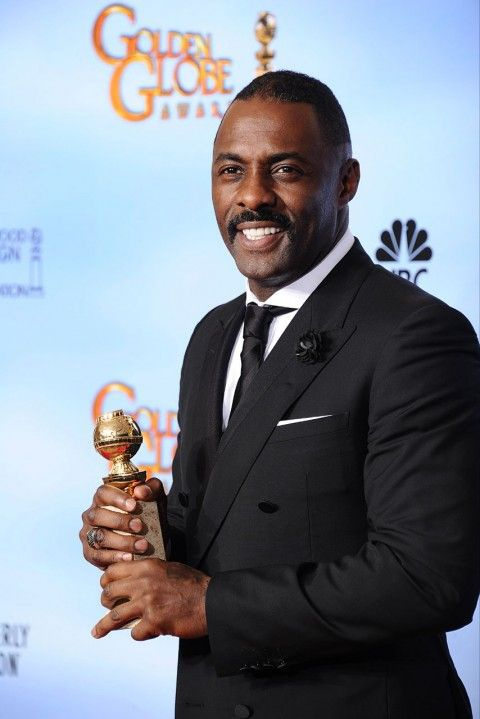hand: (84, 480, 172, 563)
